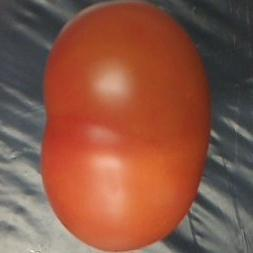unripe: (34, 1, 215, 253)
